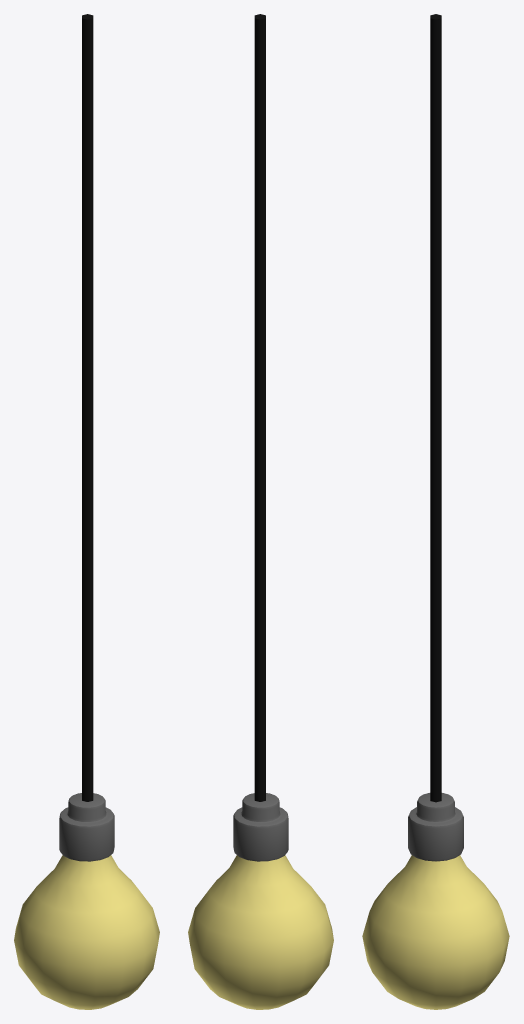
Rendered from SM_lamp_ceiling_04.fbx.
3 views of the same model, side by side, from view 1: azimuth 30°, elevation 25°; view 2: azimuth 150°, elevation 25°; view 3: azimuth 270°, elevation 25° (orthographic).
Visible parts, largest first — view 1: Object065; view 2: Object065; view 3: Object065.
Part boxes in pixels (left/top/right/bottom): Object065: left=14, top=14, right=159, bottom=1009; Object065: left=188, top=14, right=333, bottom=1009; Object065: left=362, top=14, right=509, bottom=1009.
Size of the model in its own units: 11.32 by 83.64 by 11.32.
